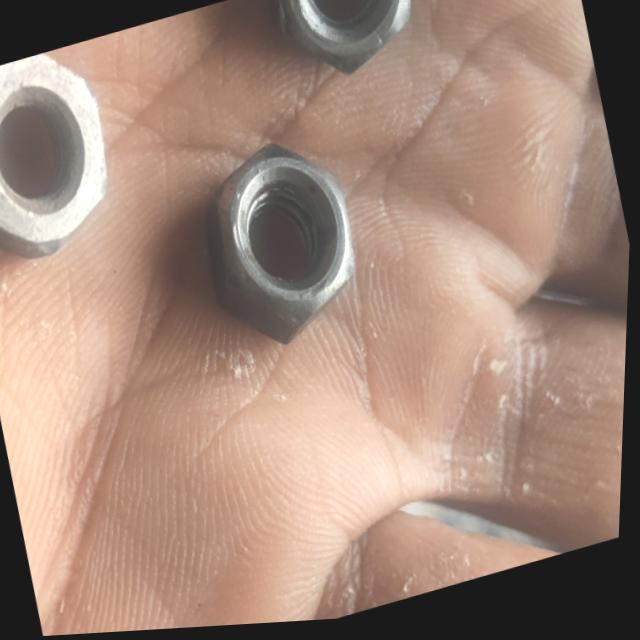disinfected nut: (207, 148, 355, 346), (0, 53, 108, 259), (275, 0, 410, 78)
